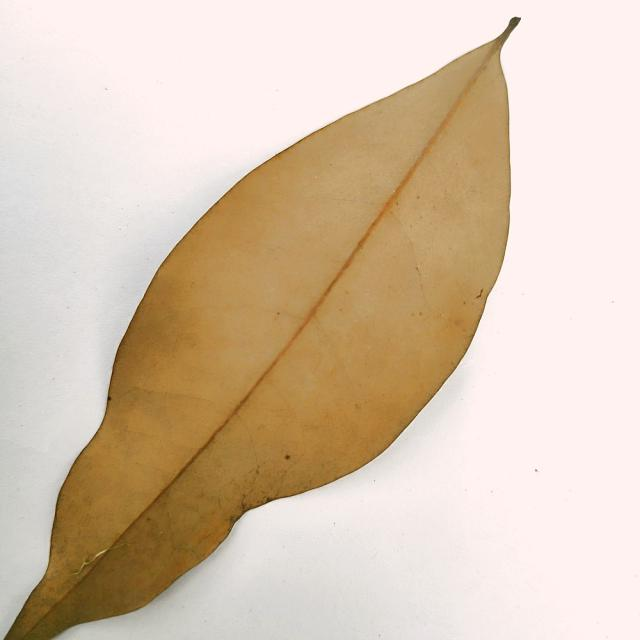Dry_Leaf-Lychee: (1, 19, 520, 639)
